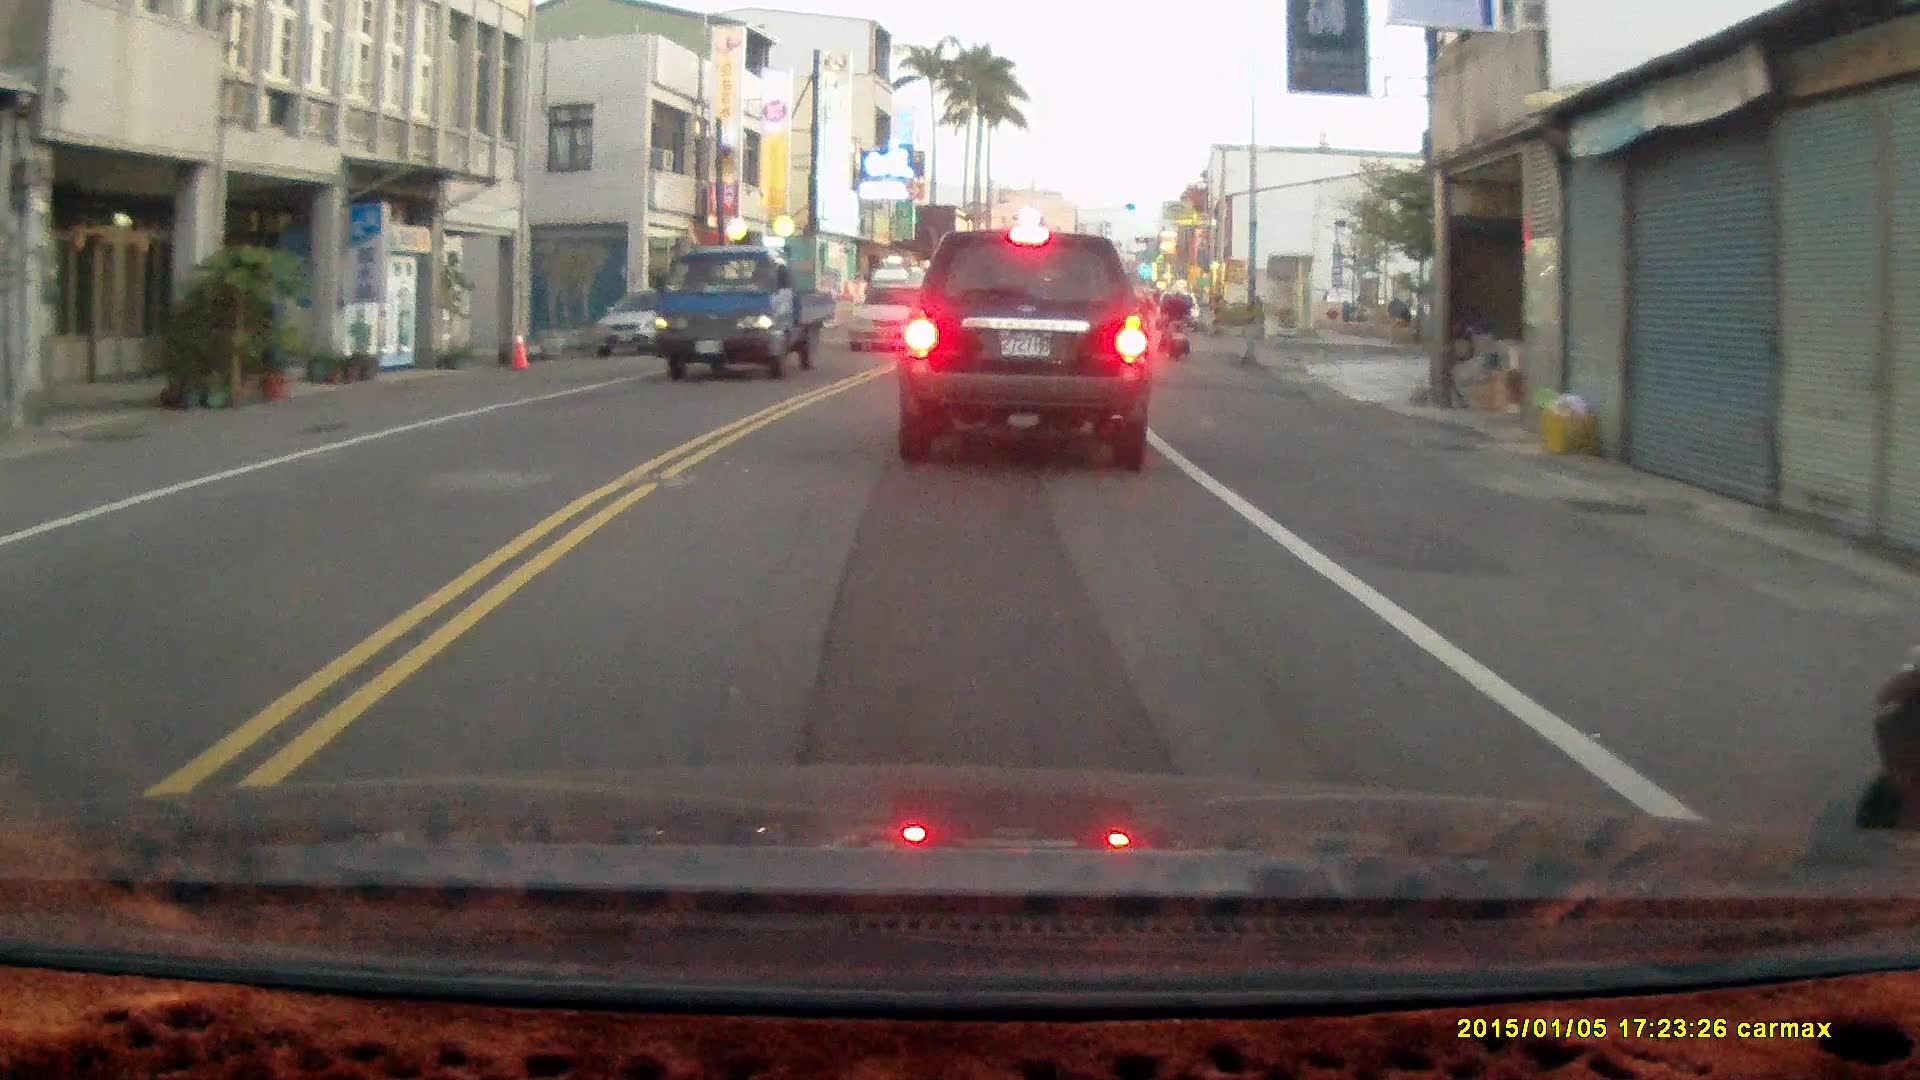rider: (1159, 281, 1190, 363)
vehicle: (898, 230, 1158, 473), (651, 244, 835, 384), (585, 286, 726, 361), (848, 279, 941, 356)
